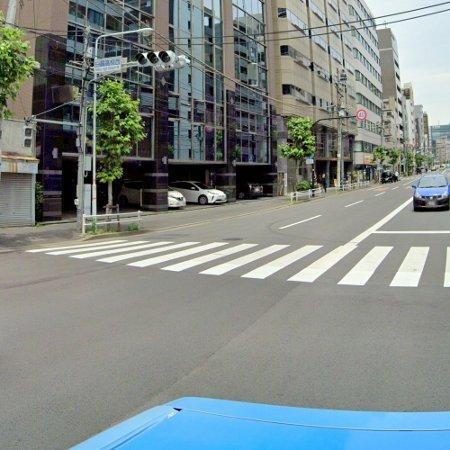crosswalks: (22, 236, 450, 290)
